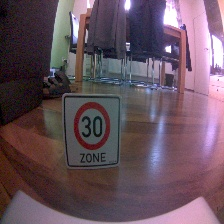dreisiger_zone: (61, 93, 122, 169)
